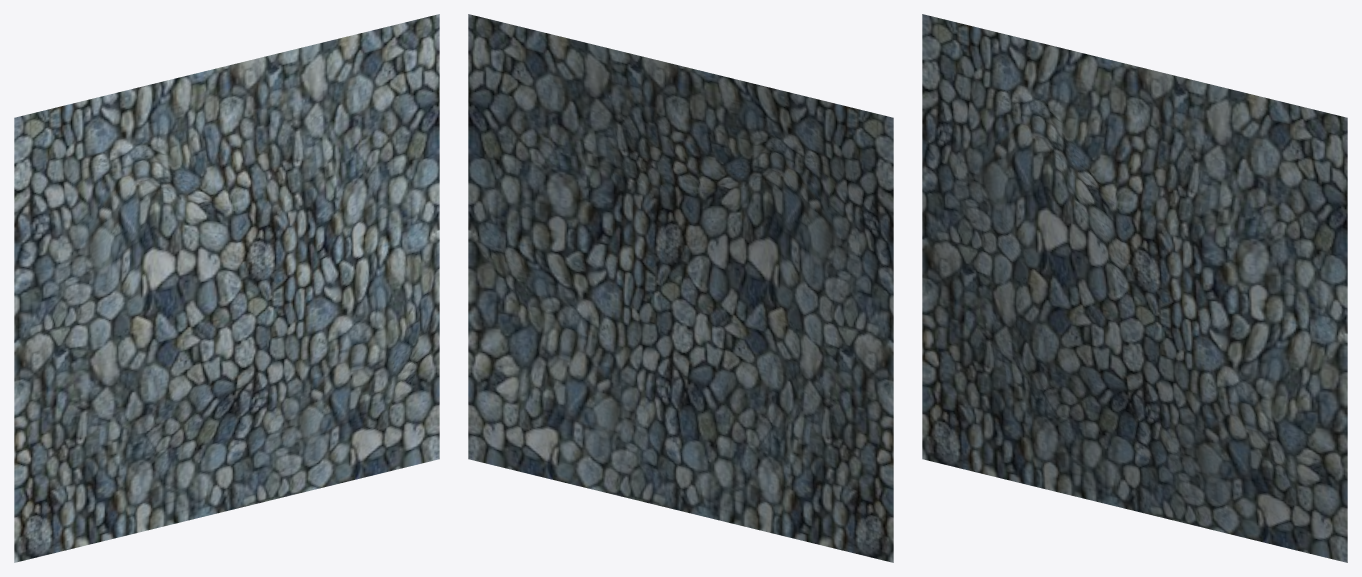
File: ground_3.obj
3 views of the same model, side by side, from view 1: azimuth 30°, elevation 25°; view 2: azimuth 150°, elevation 25°; view 3: azimuth 330°, elevation 25° (orthographic).
Size of the model in its own units: 2 by 2 by 0.0994.
